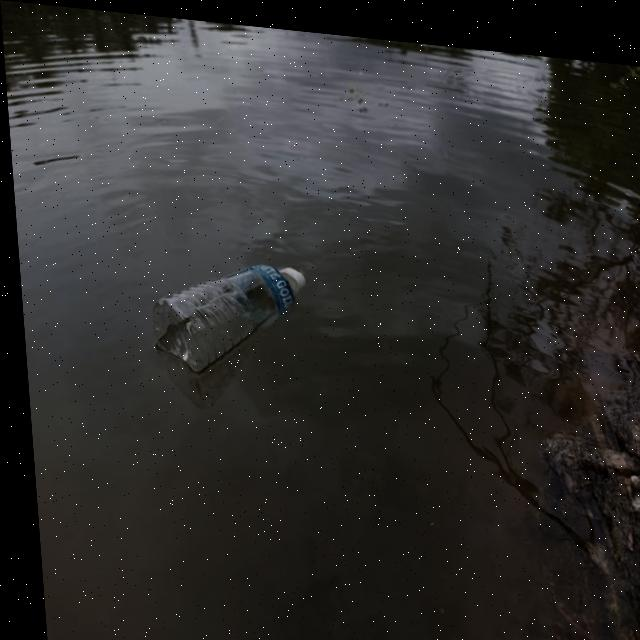waterbottle: (139, 225, 318, 385)
